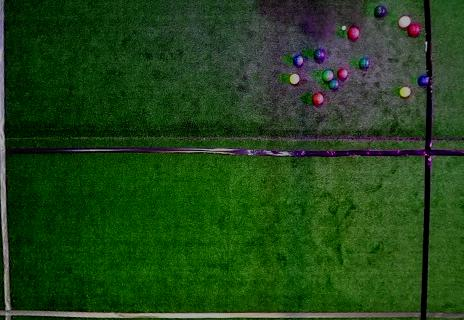blue: (418, 75, 430, 86), (293, 55, 303, 66)
green: (375, 6, 386, 17), (323, 70, 333, 82), (329, 79, 339, 90), (359, 58, 369, 69), (315, 50, 325, 61)
red: (398, 15, 411, 28), (408, 23, 420, 36), (312, 93, 324, 105), (348, 27, 359, 39), (337, 69, 348, 79)
vline: (419, 1, 464, 319), (0, 1, 15, 319)
white: (342, 25, 346, 30)
yellow: (399, 86, 411, 97), (289, 74, 300, 84)
